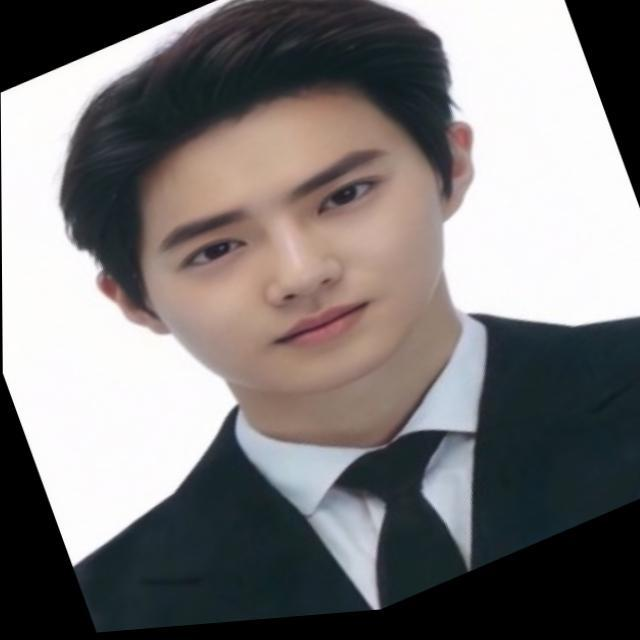Nonhelmet: (58, 0, 480, 401)
